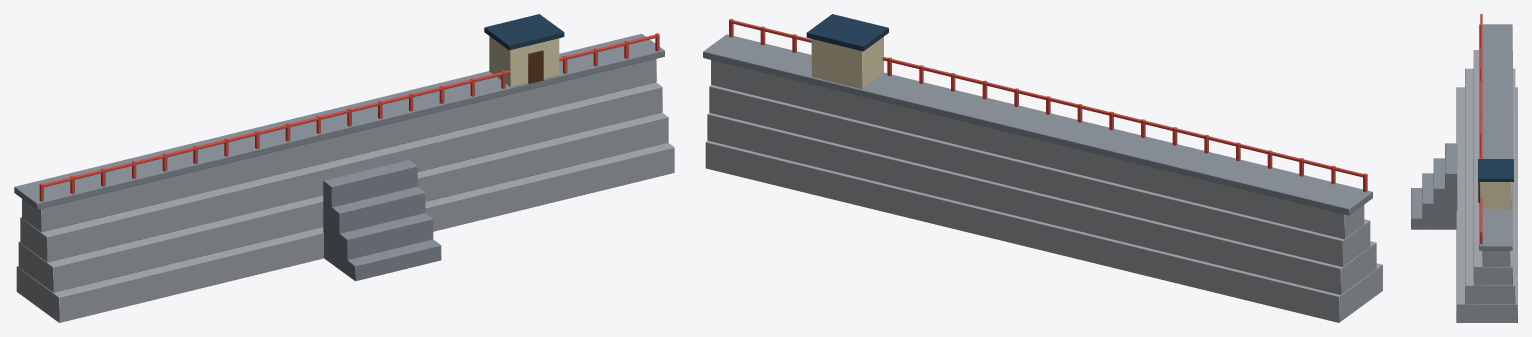
The model's file is Dam.glb.
3 views of the same model, side by side, from view 1: azimuth 30°, elevation 25°; view 2: azimuth 150°, elevation 25°; view 3: azimuth 270°, elevation 25° (orthographic). The views are drawn at different scales.
Visible parts, largest first — view 1: Dam; view 2: Dam; view 3: Dam.
Part boxes in pixels (bbox=[...]): Dam: bbox=[14, 14, 674, 322]; Dam: bbox=[703, 14, 1382, 322]; Dam: bbox=[1411, 14, 1517, 322].
Size of the model in its own units: 102 by 23.81 by 20.81.
